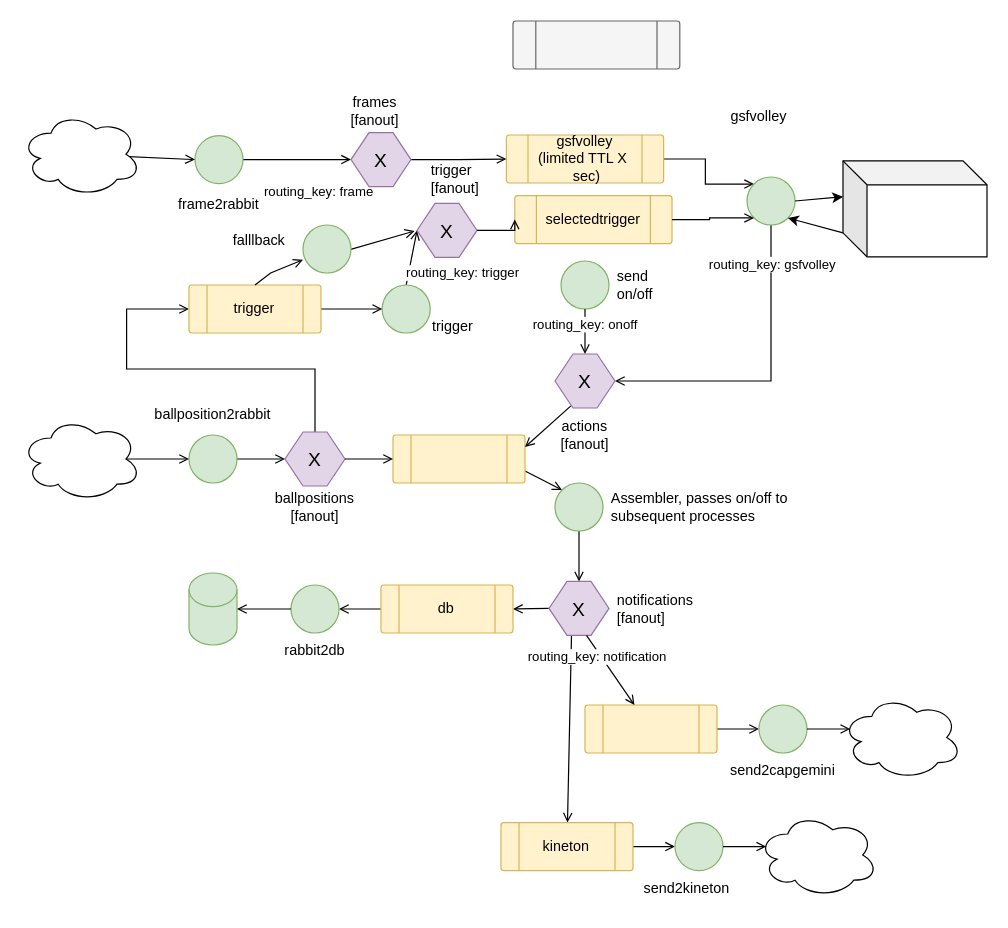
This 1008x928 diagram has some shape labels left out. Each missing label, with the centre of its shape:
"assembler" goes at (x=458, y=458).
"capgemini" goes at (x=650, y=728).
"gsfvolleystream" goes at (x=596, y=44).
"Jetson" goes at (x=914, y=208).
"mongodb" goes at (x=212, y=608).
